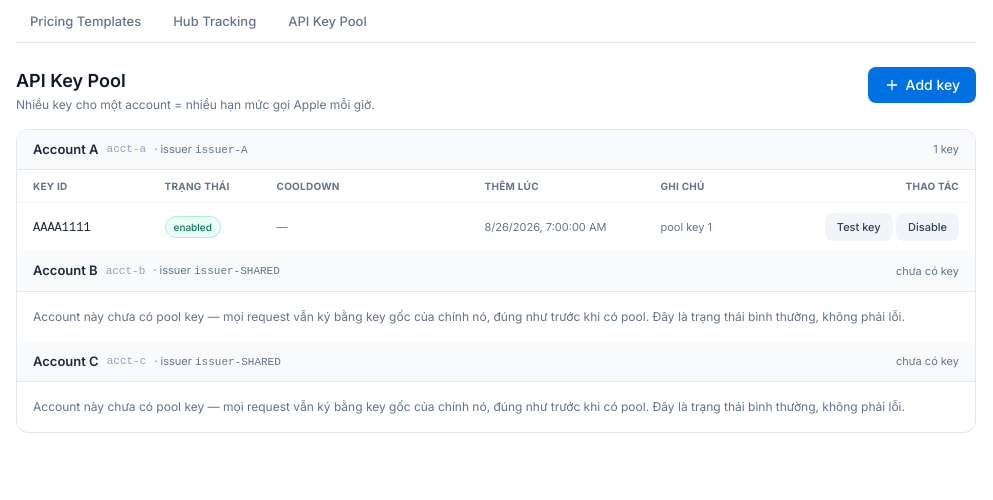
Test: ⚠ (d) Test key never shows success for a non-success › ⚠ a route-level failure surfaces readably, not as a fake verdict
Check: the row with test id "key-row-AAAA1111" is shown, box [17,202,975,251]
Click the button with test id "test-AAAA1111" at (859, 227), box [825,213,893,241]
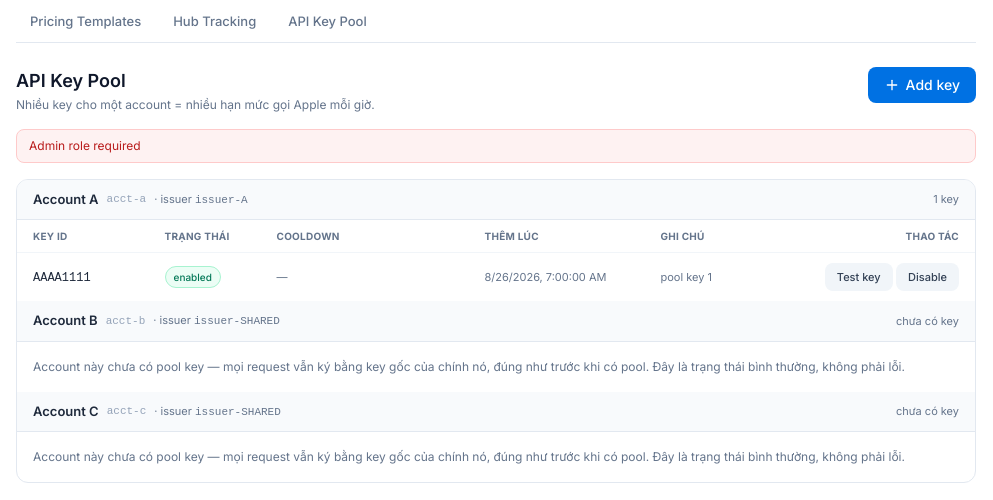
Check: the text "Admin role required" is shown, box [16,128,976,162]
Check: the text with test id "row-error" reads "Admin role required", box [29,138,141,152]
